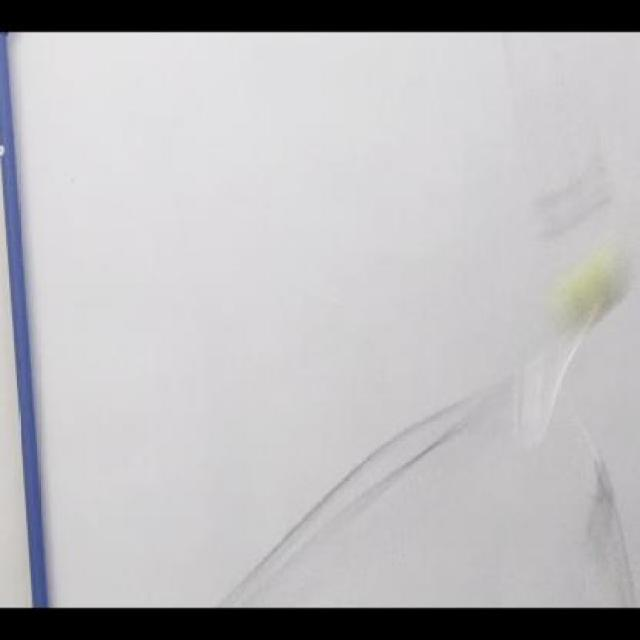baseball: (552, 241, 630, 330)
